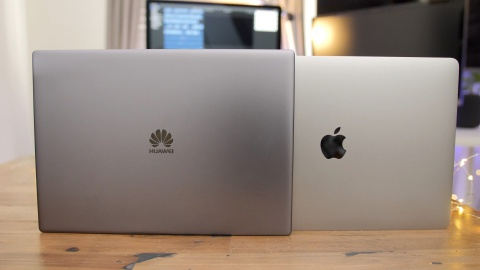apple: (316, 125, 351, 160)
